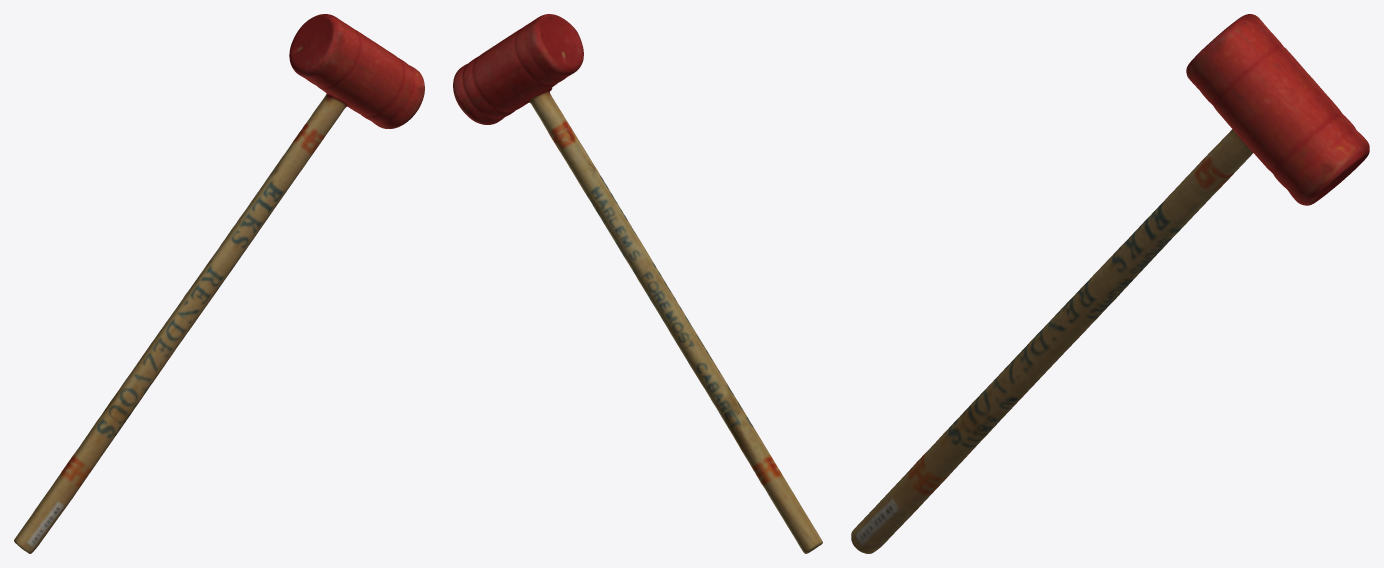
The model's file is preview.glb.
3 renders of one model, left to right at view 1: azimuth 30°, elevation 25°; view 2: azimuth 150°, elevation 25°; view 3: azimuth 330°, elevation 25°, orthographic. The views are drawn at different scales.
Size of the model in its own units: 0.1246 by 0.1453 by 0.0204.
1 material, 1 textured.
